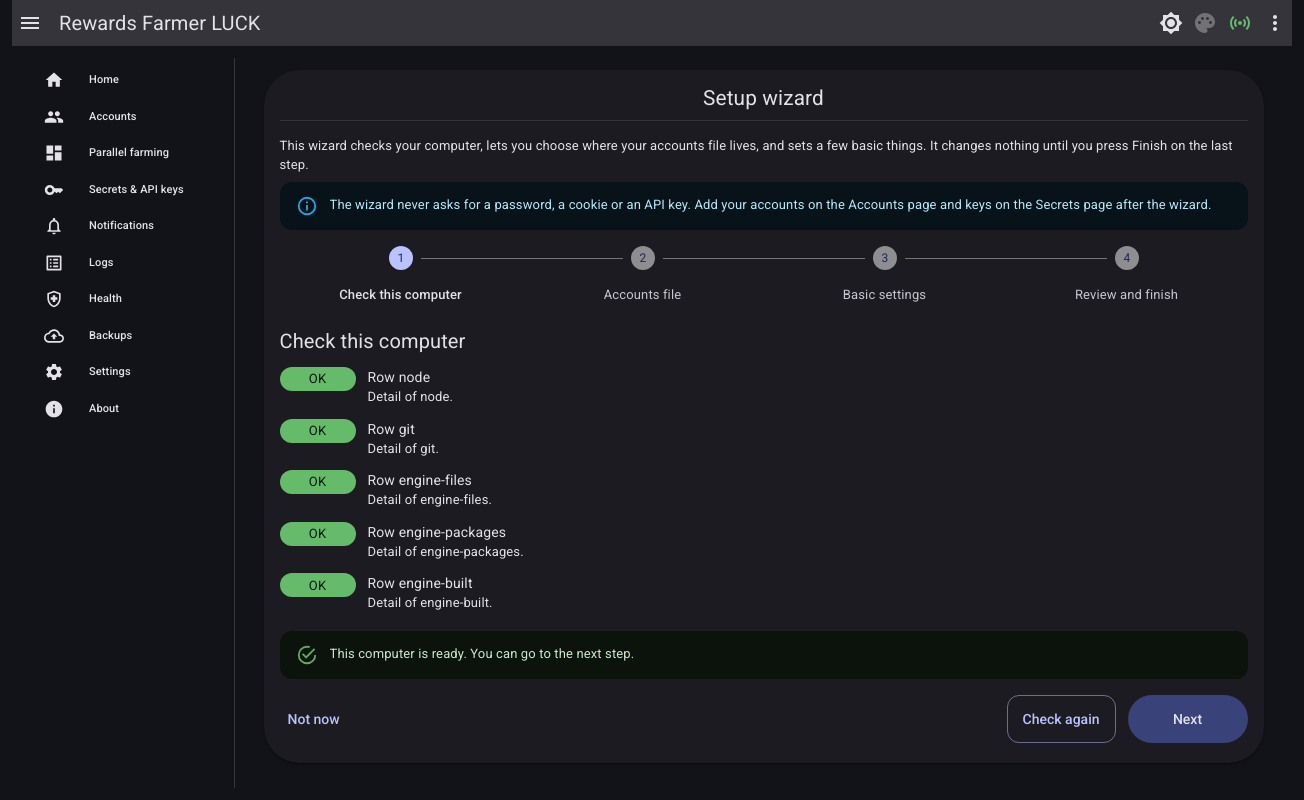
Test: step 2: accounts file › Next is disabled until a file is chosen
Expected: the text "This computer is ready. You can go to the next step." is shown, 330,646 -> 634,661
Click the button "Next": (1188, 719) 1128,695 -> 1248,743
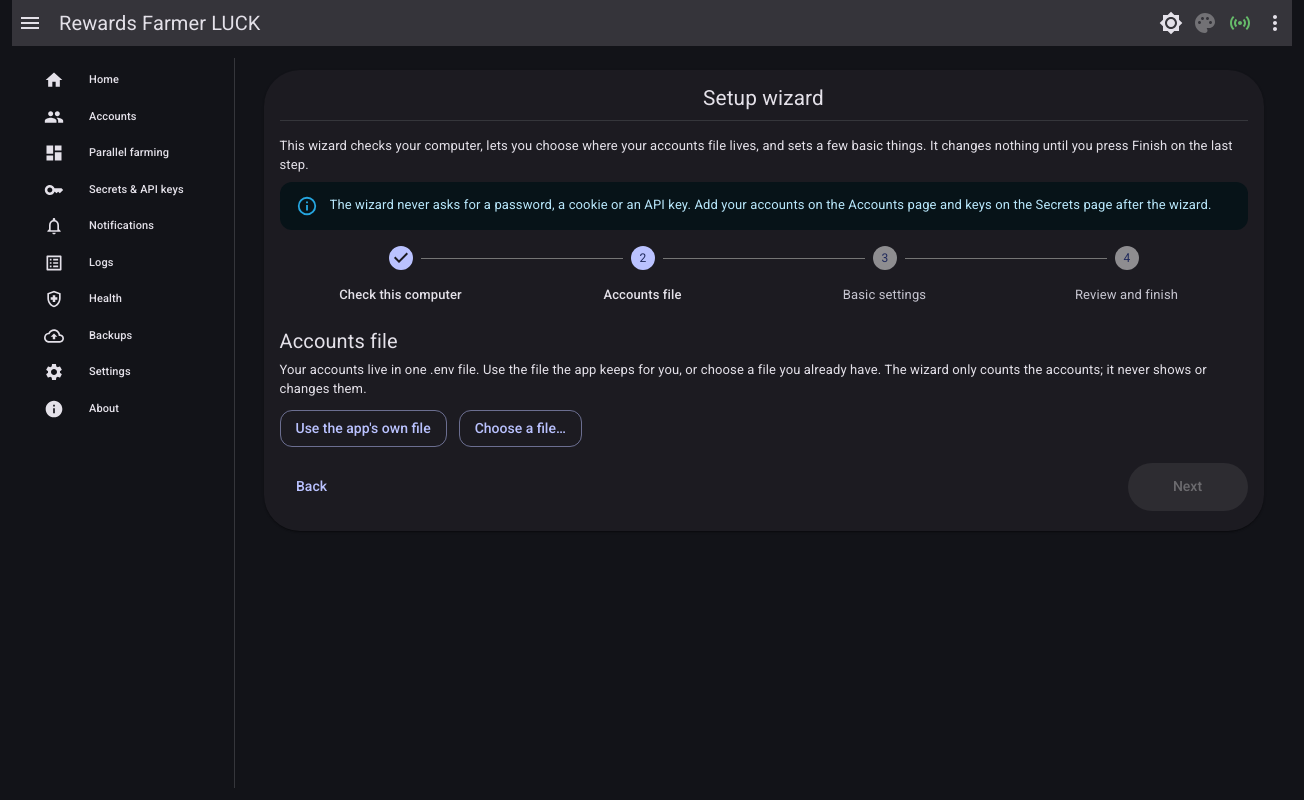
Result: the heading "Accounts file" is shown at 280,329 -> 398,353
Result: the button "Next" is disabled at 1128,463 -> 1248,511
